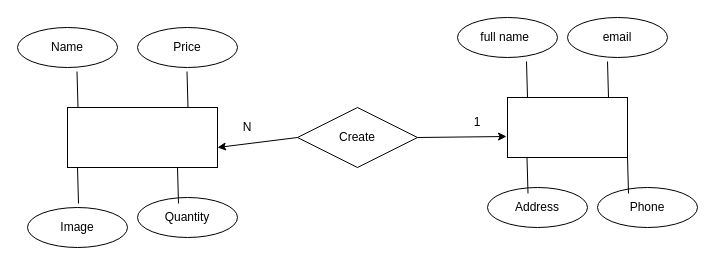
Image size: 715x265. Some labels were removed from this diagram. The centre of each missing label's shape, as x and y in pixels:
Farmer: the point at 567,127
Vegetable: the point at 142,137
